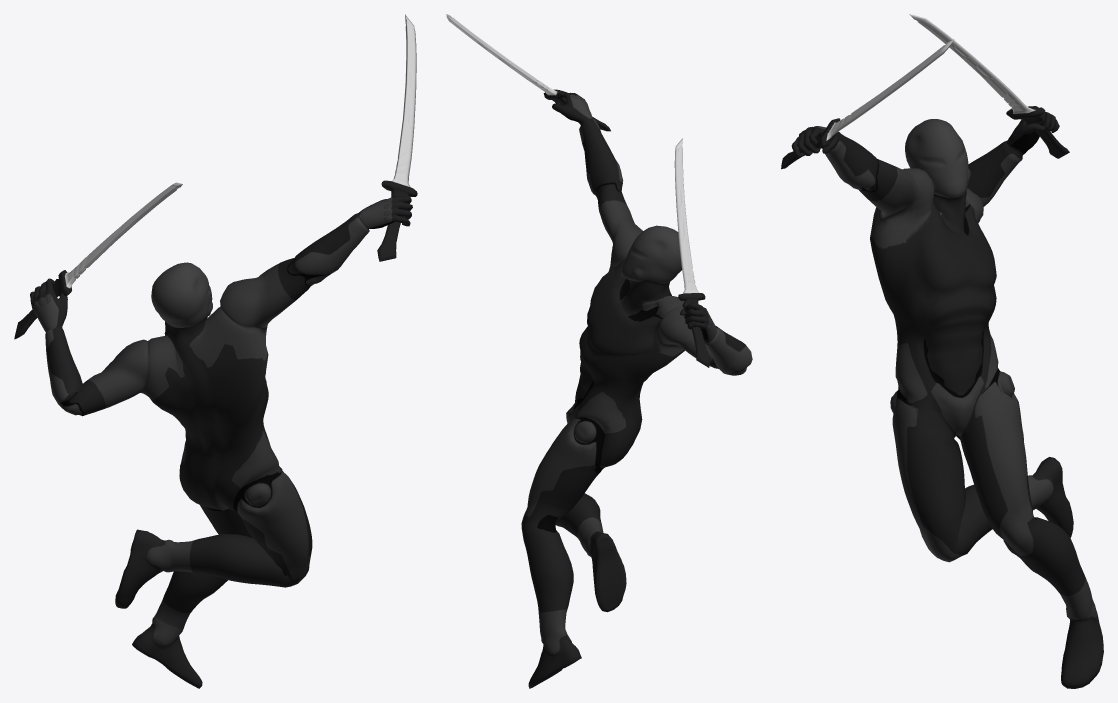
The picture shows the model from 3 angles, left to right: view 1: azimuth 30°, elevation 25°; view 2: azimuth 150°, elevation 25°; view 3: azimuth 270°, elevation 25°; orthographic projection. The views are drawn at different scales.
Parts seen in each view (by area): view 1: Cyborg_Ninja_Killer, Sword_l001, Sword_l; view 2: Cyborg_Ninja_Killer, Sword_l, Sword_l001; view 3: Cyborg_Ninja_Killer, Sword_l, Sword_l001.
Part boxes in pixels (x1,y1,x2,y2): Cyborg_Ninja_Killer: (30, 196, 412, 688); Sword_l001: (377, 14, 417, 261); Sword_l: (14, 182, 182, 339); Cyborg_Ninja_Killer: (521, 90, 752, 688); Sword_l: (674, 138, 710, 367); Sword_l001: (446, 14, 610, 131); Cyborg_Ninja_Killer: (791, 107, 1103, 688); Sword_l: (909, 14, 1069, 158); Sword_l001: (781, 39, 954, 169).
Bounding box in the file's own units: 133 × 247 × 98.81.
Materials: 2 (2 with a texture image).
